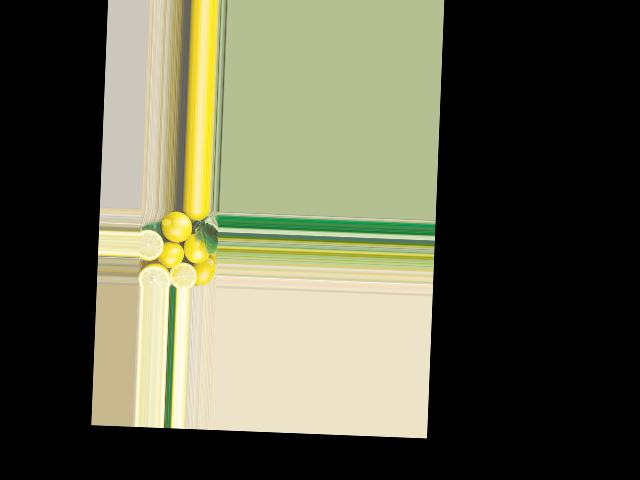lemon: (192, 256, 216, 286)
